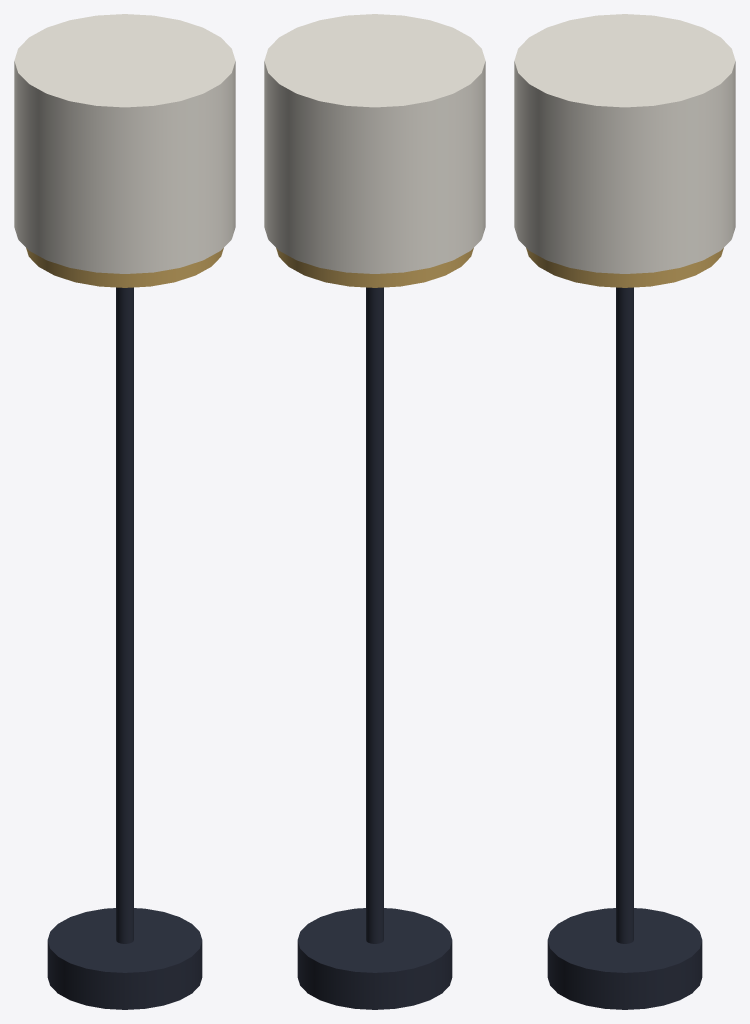
Rendered from floor-lamp.glb.
The picture shows the model from 3 angles, left to right: view 1: azimuth 30°, elevation 25°; view 2: azimuth 150°, elevation 25°; view 3: azimuth 270°, elevation 25°; orthographic projection.
Parts seen in each view (by area): view 1: floor-lamp; view 2: floor-lamp; view 3: floor-lamp.
Boxes of the visible parts, left/top/right/bottom form: floor-lamp: left=14, top=14, right=235, bottom=1009; floor-lamp: left=264, top=14, right=485, bottom=1009; floor-lamp: left=514, top=14, right=735, bottom=1009.
Size of the model in its own units: 35 by 160 by 35.
